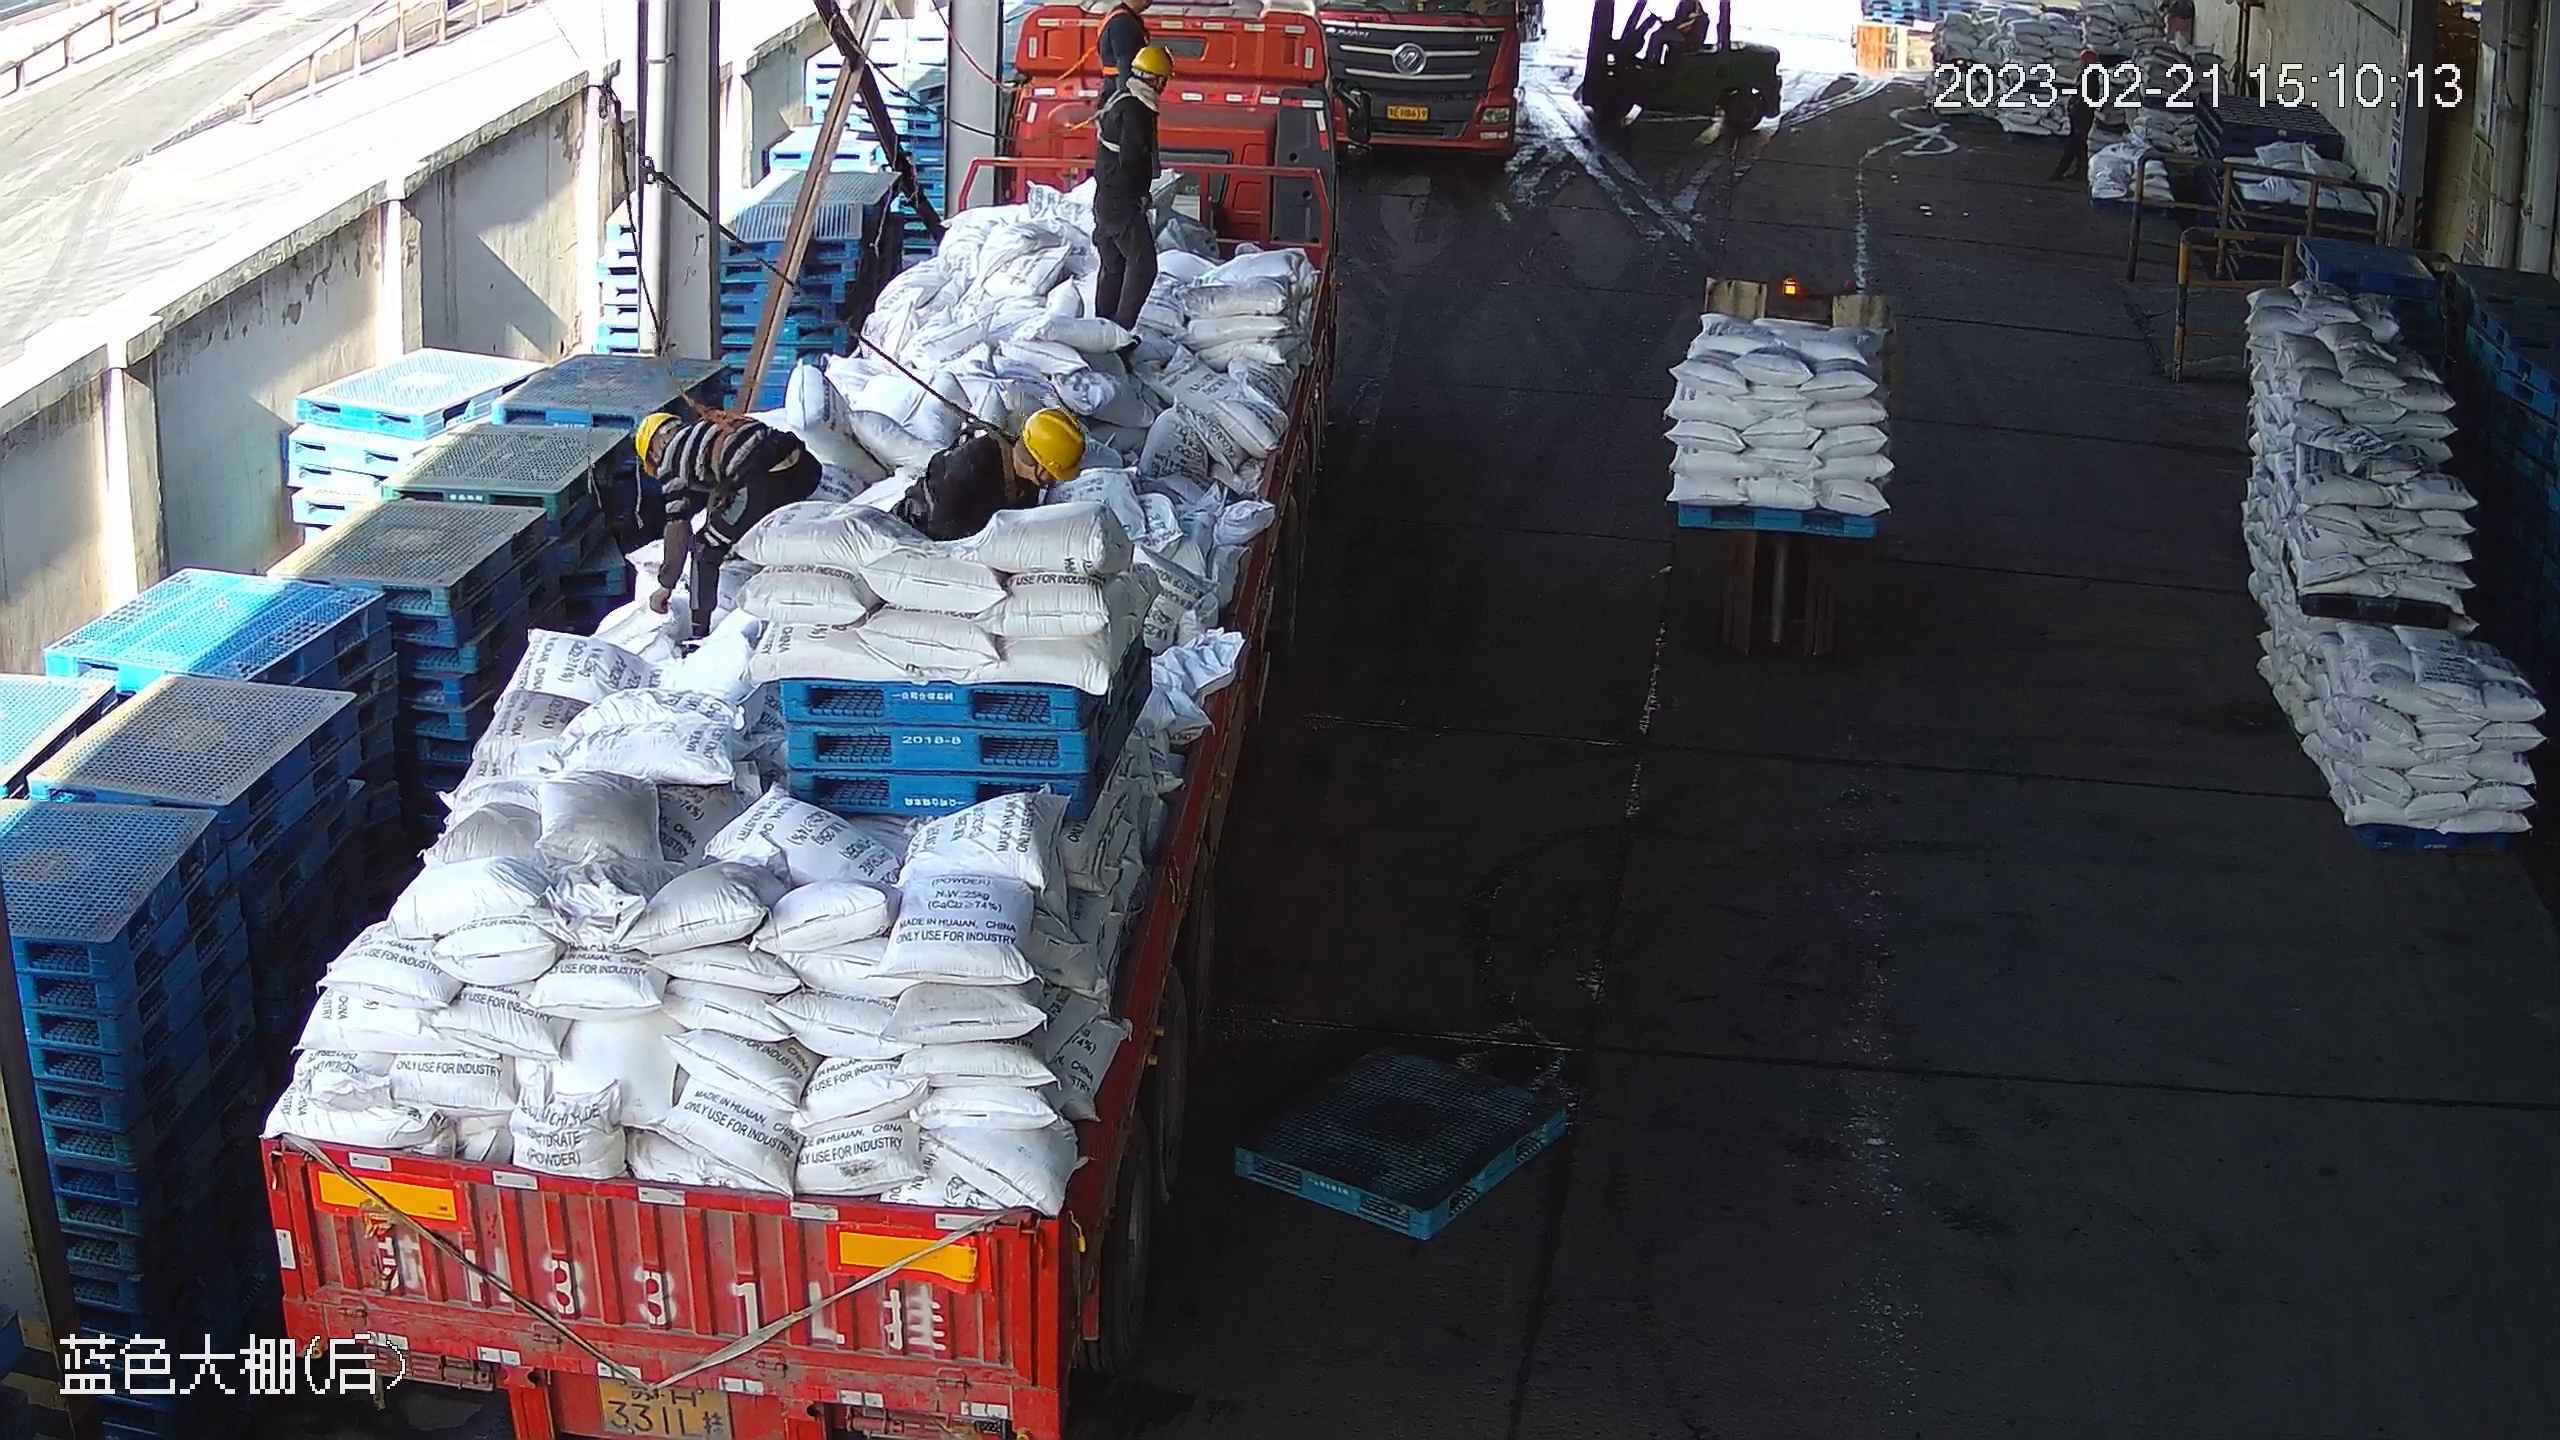belt: (962, 408, 1027, 508), (691, 398, 747, 491), (1088, 84, 1139, 159), (1090, 11, 1122, 78)
head: (932, 406, 1085, 521), (632, 415, 751, 501), (1101, 44, 1173, 142), (2057, 51, 2100, 104)
helmet: (1027, 410, 1084, 483), (634, 411, 683, 472), (1130, 46, 1167, 84), (2083, 52, 2097, 64)
people: (632, 408, 813, 652), (1088, 44, 1174, 328), (2051, 51, 2101, 180)
truck: (225, 3, 1371, 1435)
